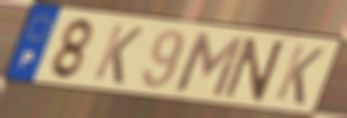8: (49, 16, 97, 81)
9: (139, 27, 186, 91)
K: (271, 42, 328, 108), (90, 21, 146, 87)
M: (173, 29, 248, 100)
N: (220, 35, 289, 103)
